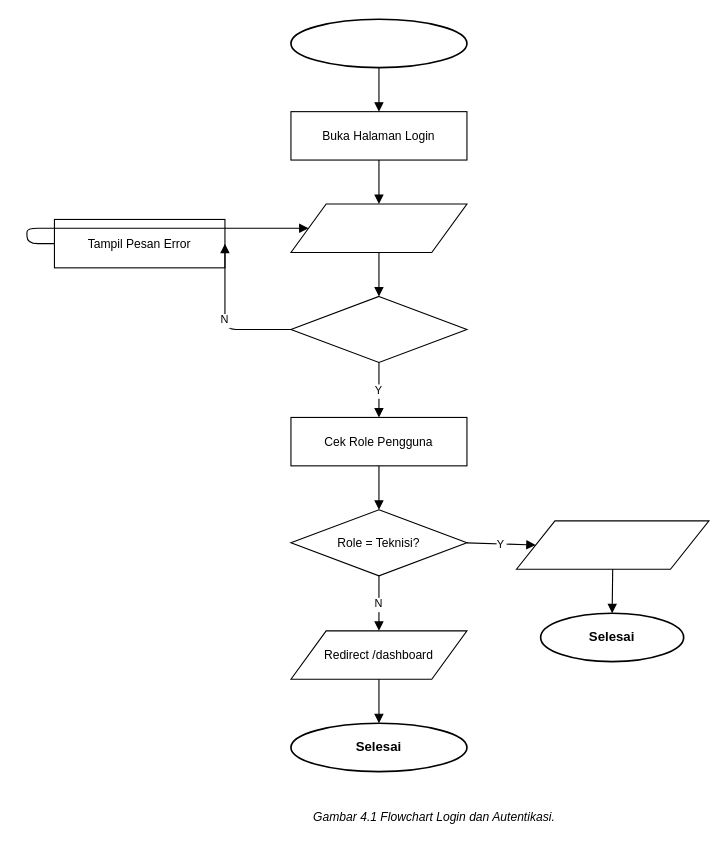
The diagram is 728 pixels wide and 853 high, and some of its shapes have lost their labels. Each missing label, with the centre of its shape:
"Input Email dan Password" goes at (x=378, y=227).
"Kredensial Valid?" goes at (x=378, y=328).
"Mulai" goes at (x=378, y=43).
"Redirect /my-dashboard" goes at (x=612, y=544).
